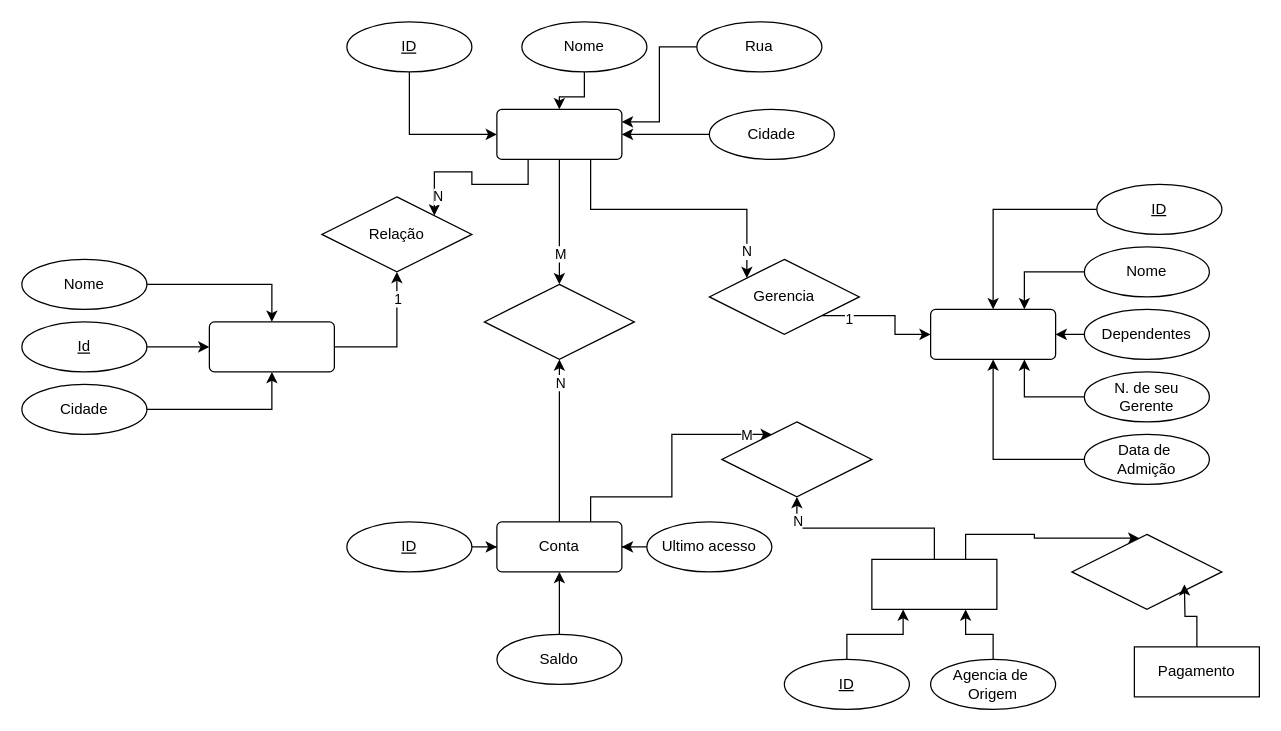
Image size: 1281x731. Some labels were removed from this diagram. Each missing label, with the centre of its shape:
Agencias: [271,346]
Clientes: [559,133]
Efetua: [1146,571]
Empréstimo: [934,583]
Funcionário: [992,333]
Mantem: [796,459]
Possui: [558,321]
